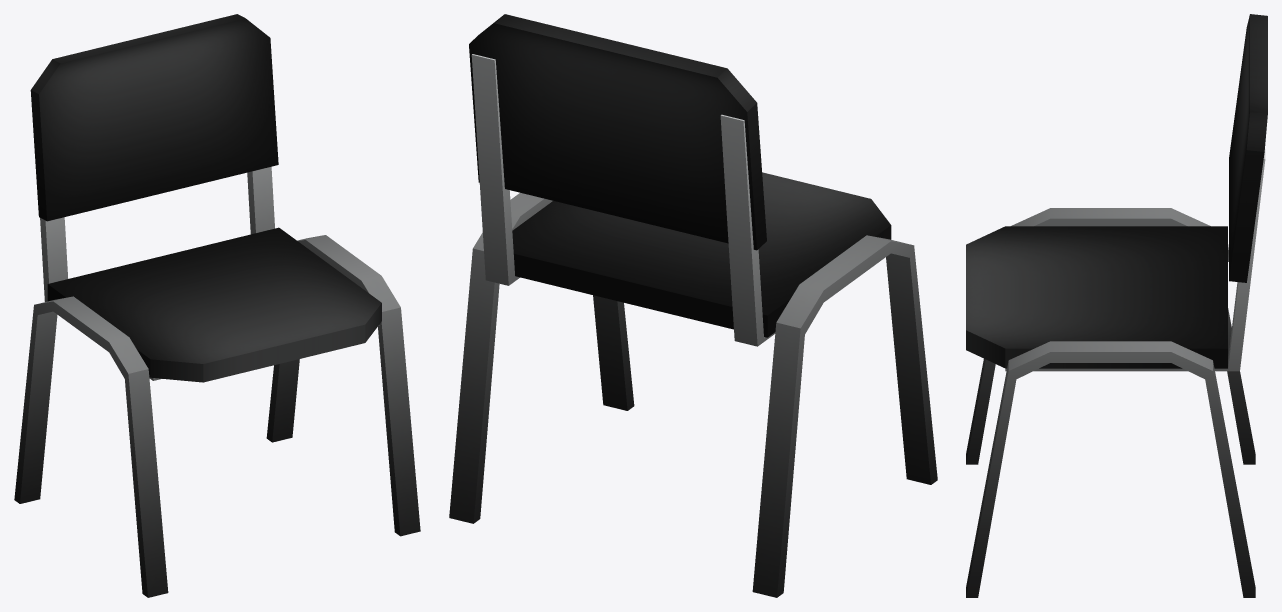
Rendered from Chair_Conference.fbx.
The picture shows the model from 3 angles, left to right: view 1: azimuth 30°, elevation 25°; view 2: azimuth 150°, elevation 25°; view 3: azimuth 270°, elevation 25°; orthographic projection. The views are drawn at different scales.
Parts seen in each view (by area): view 1: Chair_Conference; view 2: Chair_Conference; view 3: Chair_Conference.
Boxes of the visible parts, x1=… form: Chair_Conference: x1=14, y1=14, x2=420, y2=597; Chair_Conference: x1=449, y1=14, x2=937, y2=597; Chair_Conference: x1=966, y1=14, x2=1267, y2=597.
Size of the model in its own units: 54.47 by 81.7 by 48.28.
